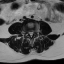CCS_normal: (30, 30, 32, 39)
LFS_severe_stenosis: (33, 29, 35, 34)
LLS_stenosis: (32, 30, 34, 36)
RFS_severe_stenosis: (26, 30, 28, 35)
RLS_stenosis: (28, 30, 30, 35)
